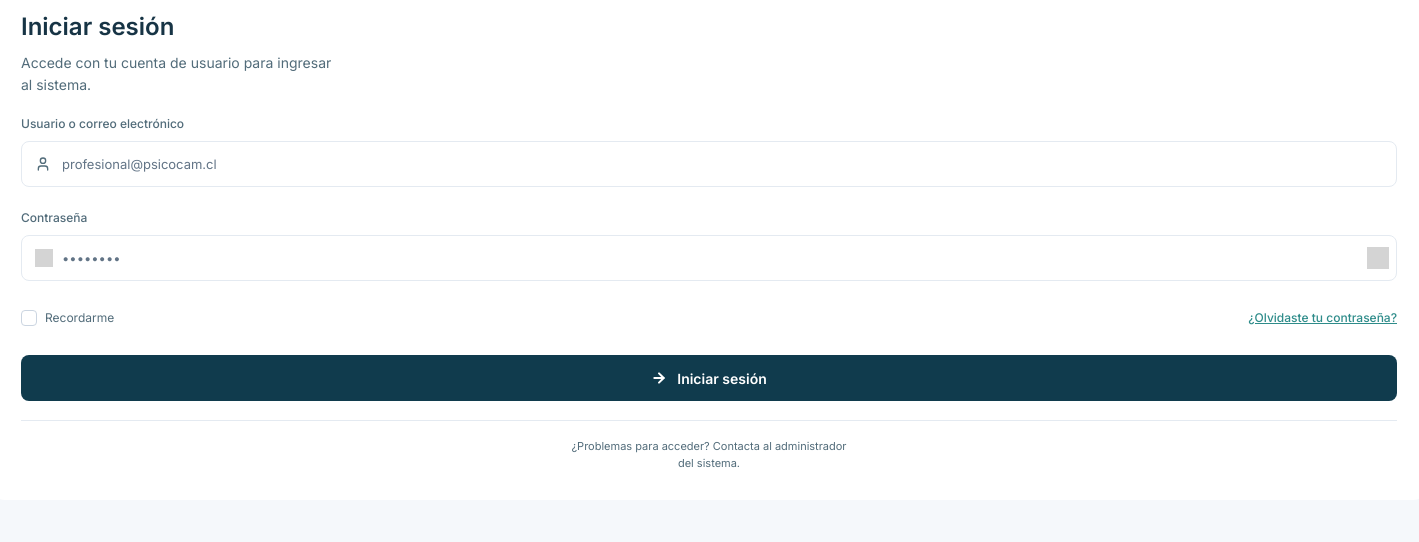
Test case: Formulario visual de inicio de sesión › informa la falta de integración y enlaza al flujo de recuperación
Type "usuario.prueba" into the field labelled "Usuario o correo electrónico" at (709, 164), box [21, 141, 1397, 187]
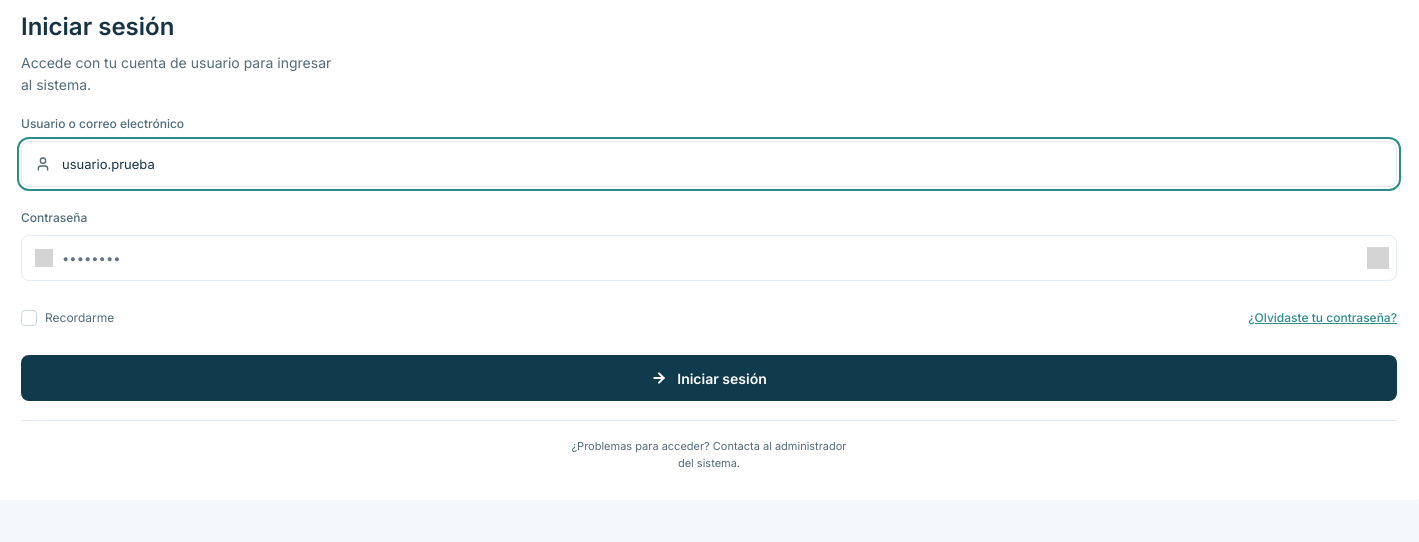
Type "clave de prueba" into the password field labelled "Contraseña" at (709, 258), box [21, 235, 1397, 281]
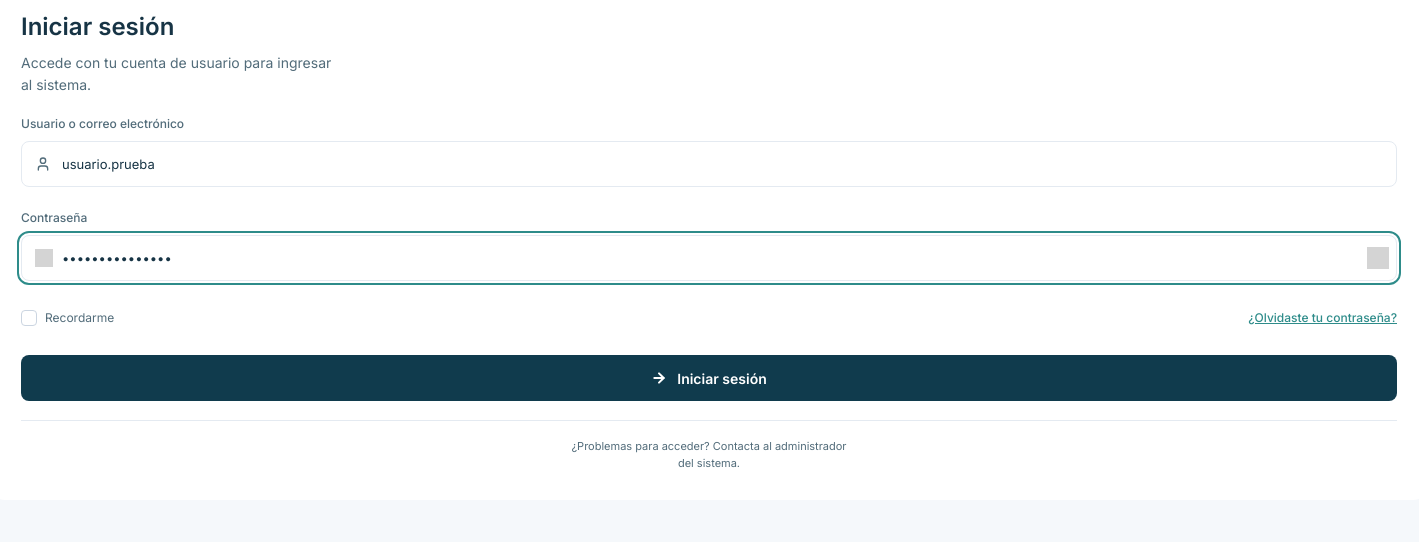
Click the button "Iniciar sesión" at (709, 378), box [21, 355, 1397, 401]
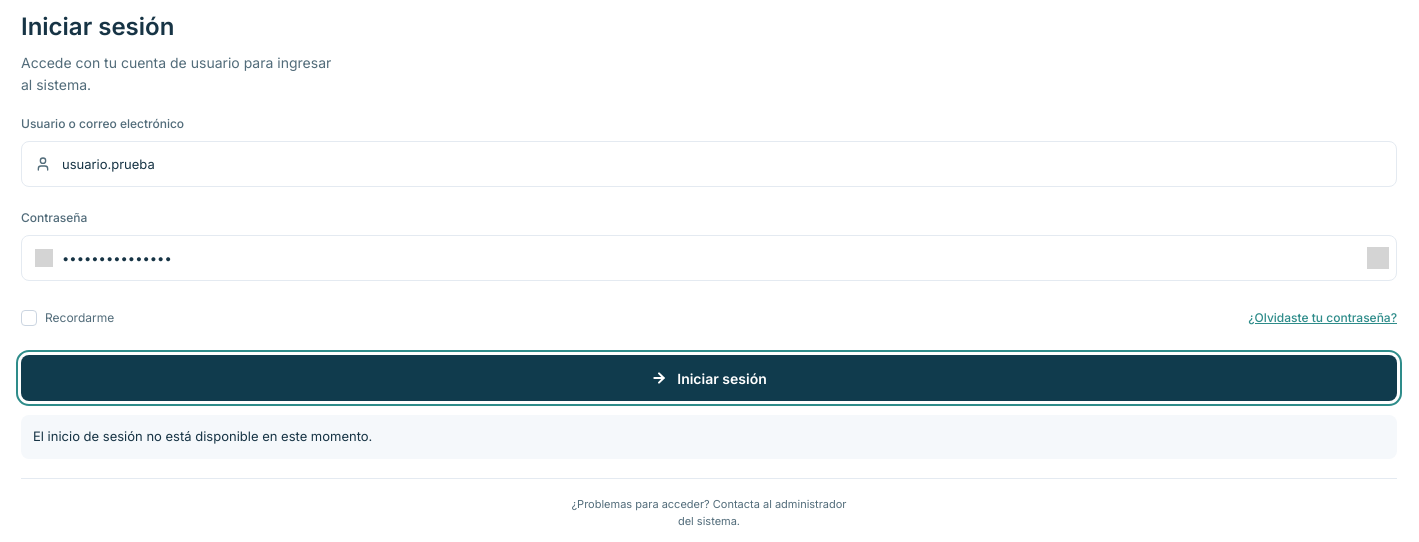
Expected: the message shows "no está disponible", [33, 428, 372, 444]
